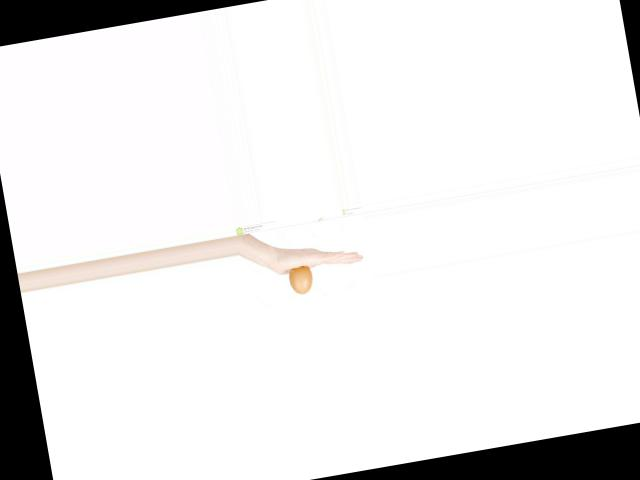egg: (288, 263, 315, 295)
